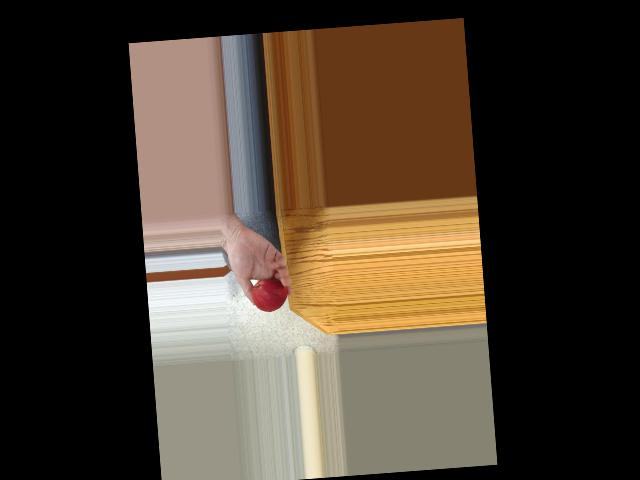apple: (250, 276, 288, 315)
